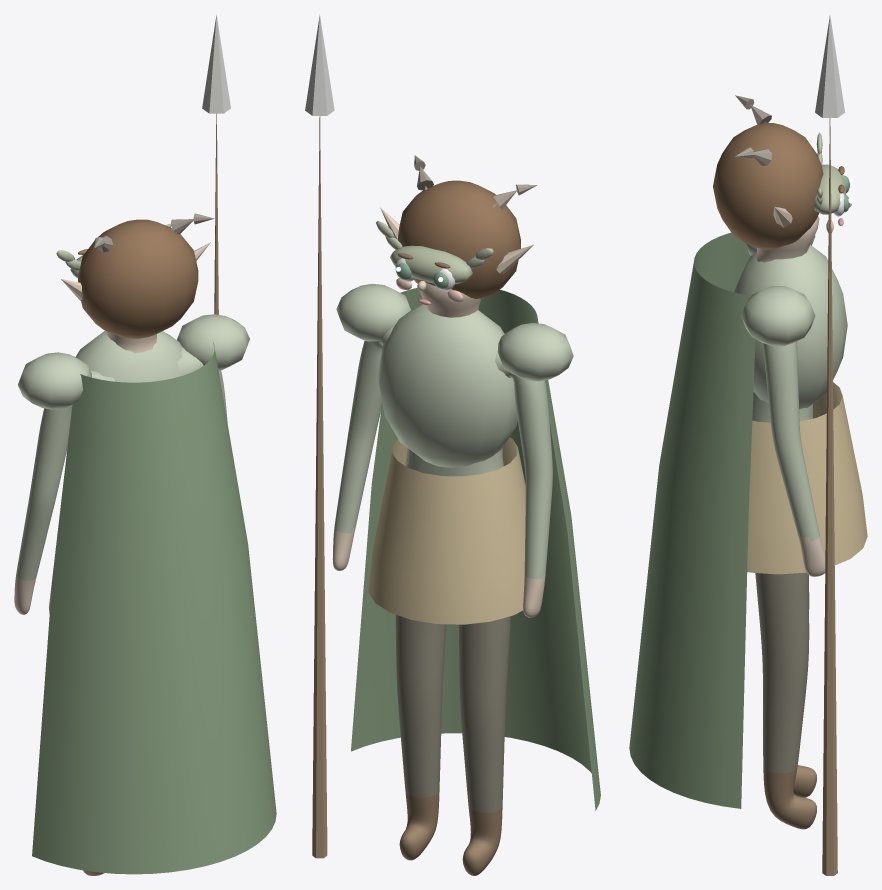
Rendered from sentry_1_true.gltf.
3 views of the same model, side by side, from view 1: azimuth 30°, elevation 25°; view 2: azimuth 150°, elevation 25°; view 3: azimuth 270°, elevation 25° (orthographic). The views are drawn at different scales.
Visible parts, largest first — view 1: sentry_1_true; view 2: sentry_1_true; view 3: sentry_1_true.
Part boxes in pixels (<box>): sentry_1_true: <box>14,15,276,875</box>; sentry_1_true: <box>305,14,600,875</box>; sentry_1_true: <box>629,15,867,875</box>.
Bounding box in the file's own units: 0.7129 × 2.34 × 0.5888.
